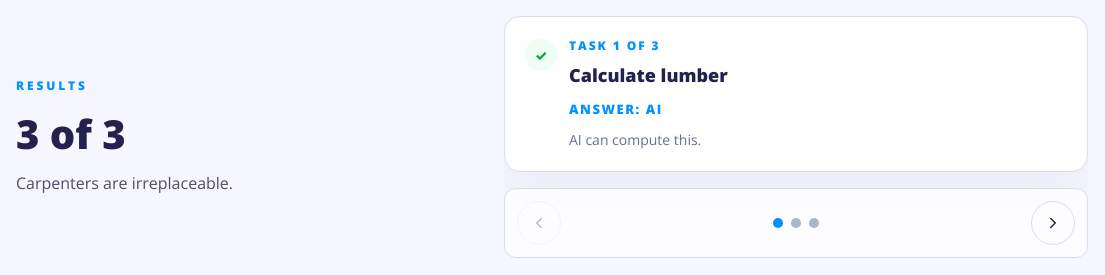
Test: ScreenAI › results view renders tasks in canonical data.tasks order
This screenshot has width=1105, height=275.
Expected: the text "Calculate lumber" is shown, [569,63,728,88]
Click the button named "Show next result".
click(1053, 223)  # box [1031,201,1075,245]
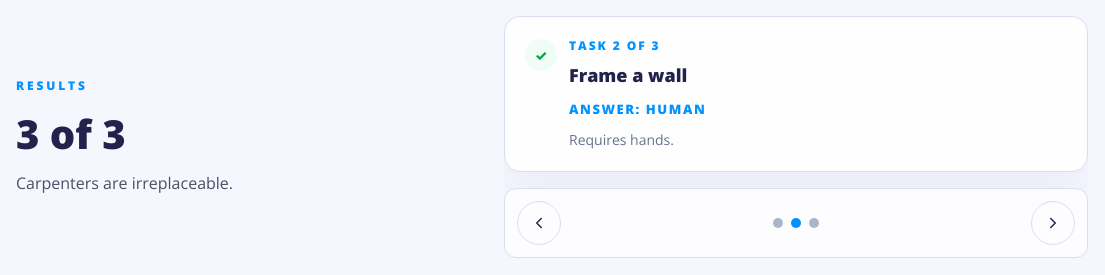
Expected: the text "Frame a wall" is shown, [569,63,706,88]
Click the button named "Show next result".
click(1053, 223)  # box [1031,201,1075,245]
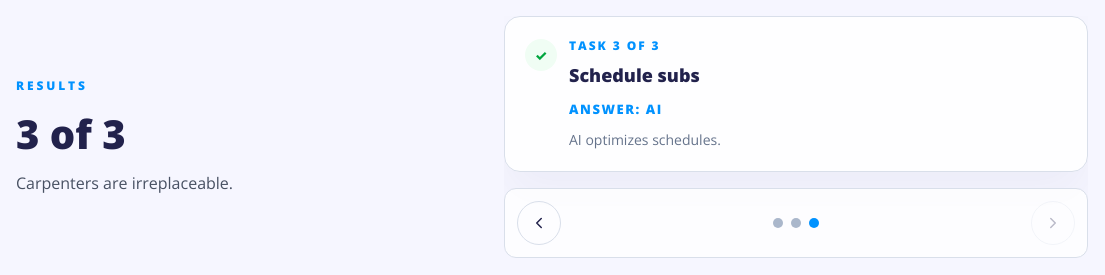
Expected: the text "Schedule subs" is shown, [569,63,721,88]
